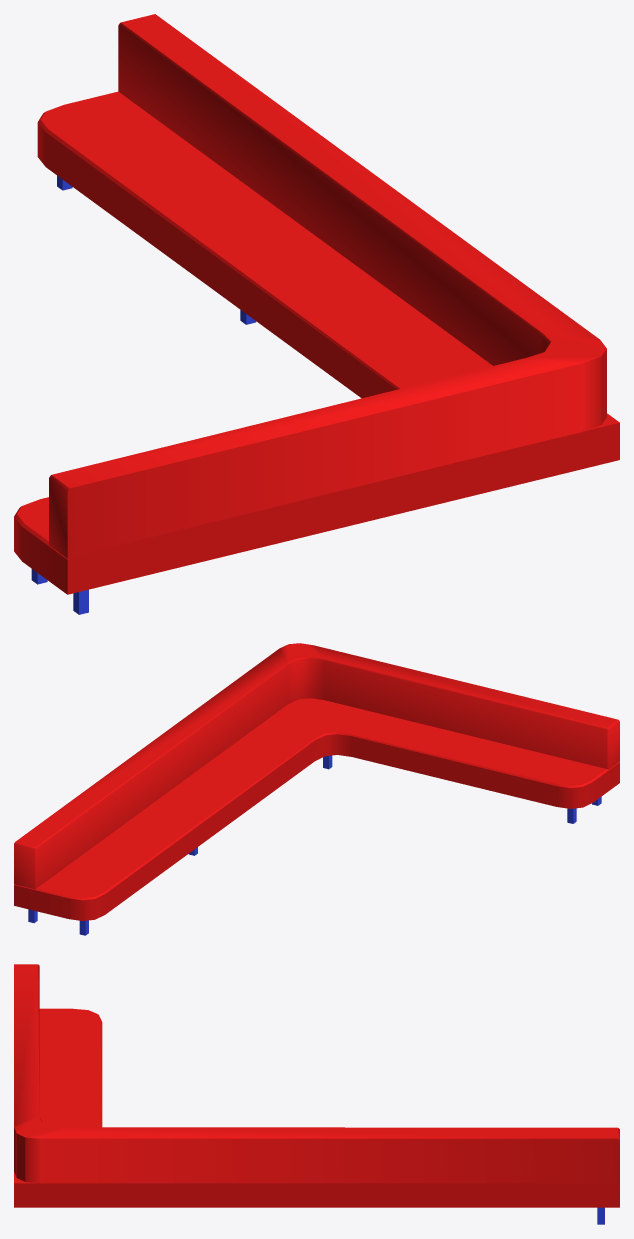
File: ghe bang dai.FBX
The picture shows the model from 3 angles, top to bottom: view 1: azimuth 30°, elevation 25°; view 2: azimuth 150°, elevation 25°; view 3: azimuth 270°, elevation 25°; orthographic projection. The views are drawn at different scales.
Visible parts, largest first — view 1: Box1144; view 2: Box1144; view 3: Box1144.
Part boxes in pixels (left/top/right/bottom): Box1144: left=14, top=14, right=619, bottom=614; Box1144: left=14, top=643, right=619, bottom=935; Box1144: left=14, top=964, right=619, bottom=1224.
Bounding box in the file's own units: 7.09 × 1.7 × 10.36.
